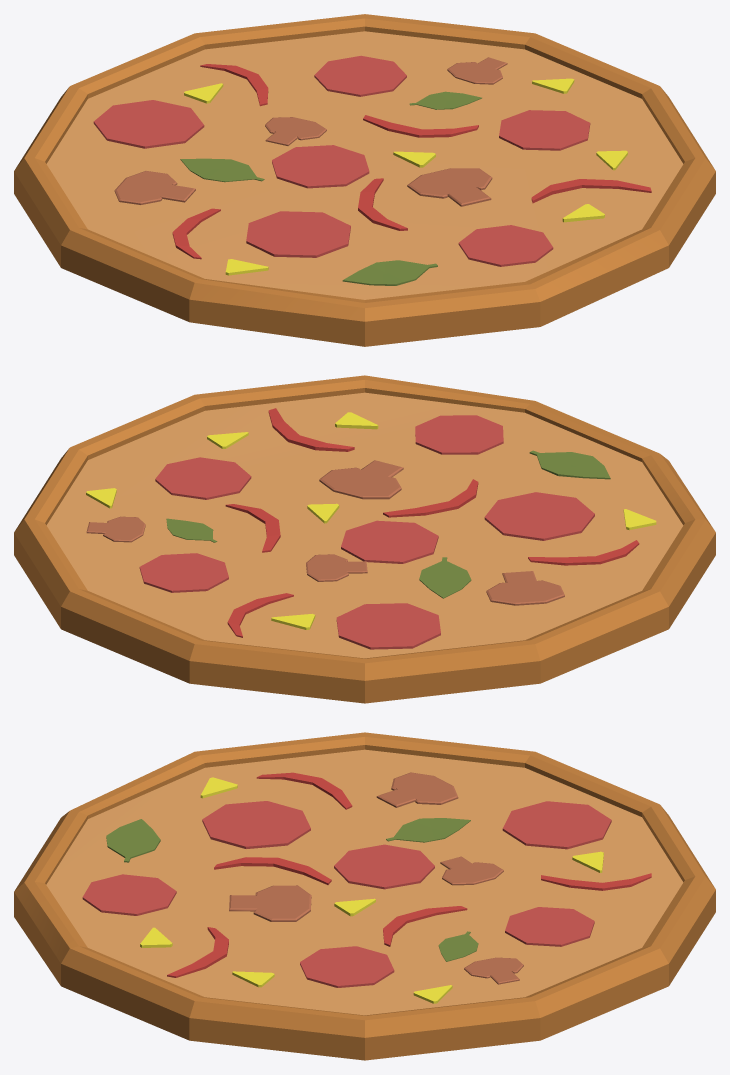
The model's file is Pizza_01.fbx.
3 renders of one model, top to bottom at view 1: azimuth 30°, elevation 25°; view 2: azimuth 150°, elevation 25°; view 3: azimuth 270°, elevation 25°, orthographic.
Parts seen in each view (by area): view 1: Pizza_01; view 2: Pizza_01; view 3: Pizza_01.
Part boxes in pixels (box(x1,y1,x2,y2)): Pizza_01: box(14, 14, 715, 346); Pizza_01: box(14, 375, 715, 703); Pizza_01: box(14, 732, 715, 1060).
Bounding box in the file's own units: 25.56 × 1.63 × 25.56.
